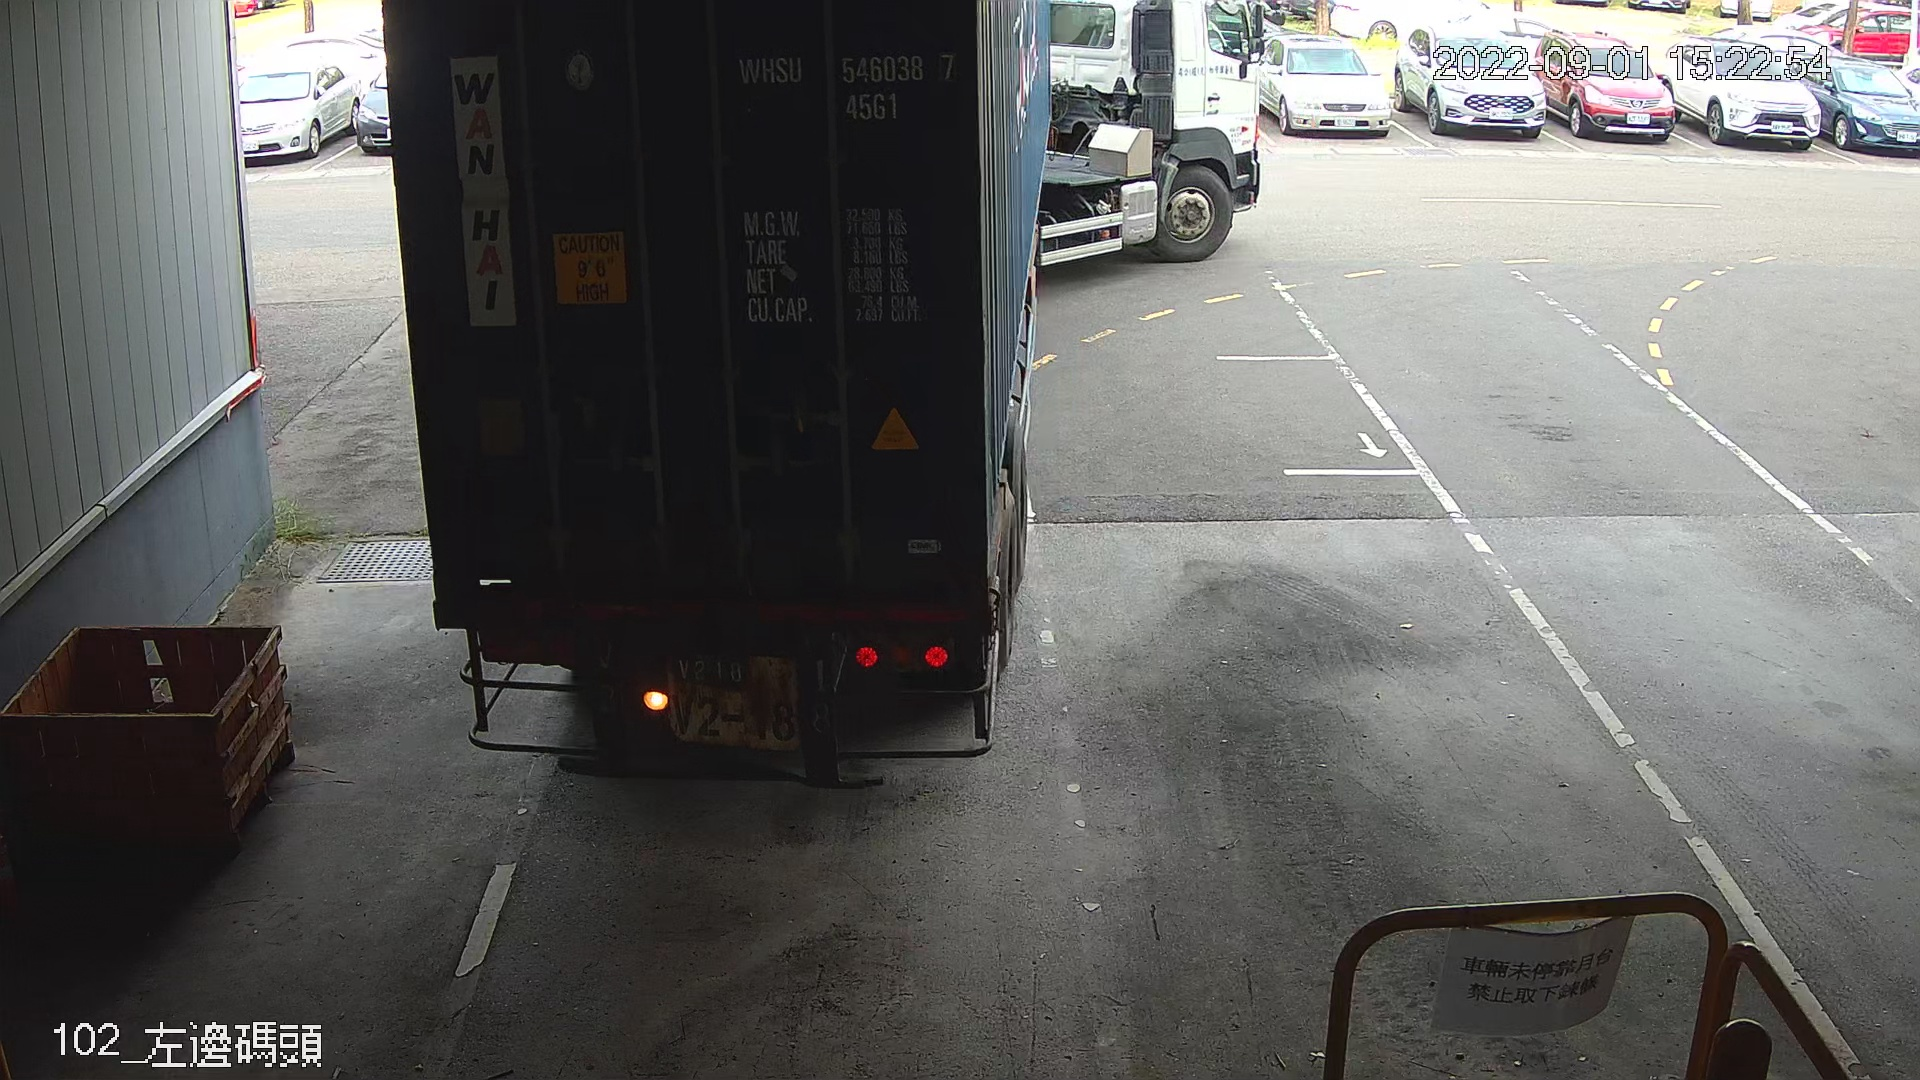container: (728, 40, 969, 135)
